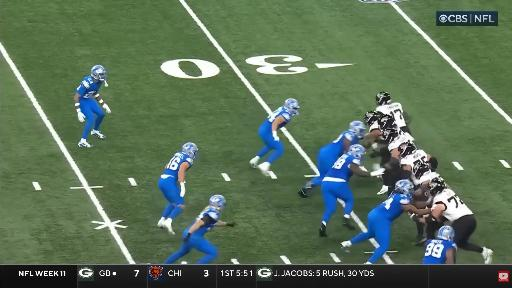Helmet: (396, 178, 414, 196), (437, 225, 455, 243), (414, 162, 430, 180), (429, 177, 445, 195), (349, 143, 365, 160), (399, 144, 417, 159), (349, 121, 368, 135), (379, 114, 397, 128), (383, 124, 401, 138), (92, 64, 105, 82), (210, 195, 225, 210), (182, 143, 198, 157), (377, 92, 393, 106), (286, 98, 299, 113), (366, 111, 379, 124)
Jersey: (433, 189, 473, 222), (184, 207, 220, 236), (324, 154, 360, 182), (375, 193, 410, 221), (326, 131, 359, 157), (163, 152, 193, 180), (423, 240, 457, 264), (260, 107, 291, 131), (376, 103, 406, 127), (76, 76, 103, 98), (388, 129, 414, 151), (400, 150, 427, 169), (414, 171, 439, 185)
Player: (341, 180, 430, 263), (424, 177, 493, 263), (320, 145, 383, 236), (298, 121, 365, 197), (165, 195, 235, 263), (367, 114, 413, 195), (250, 99, 299, 175), (158, 143, 198, 234), (371, 116, 411, 195), (74, 65, 110, 147), (398, 142, 438, 189), (398, 141, 438, 185), (376, 92, 410, 134), (423, 226, 457, 264), (412, 162, 439, 208), (363, 111, 385, 148)
